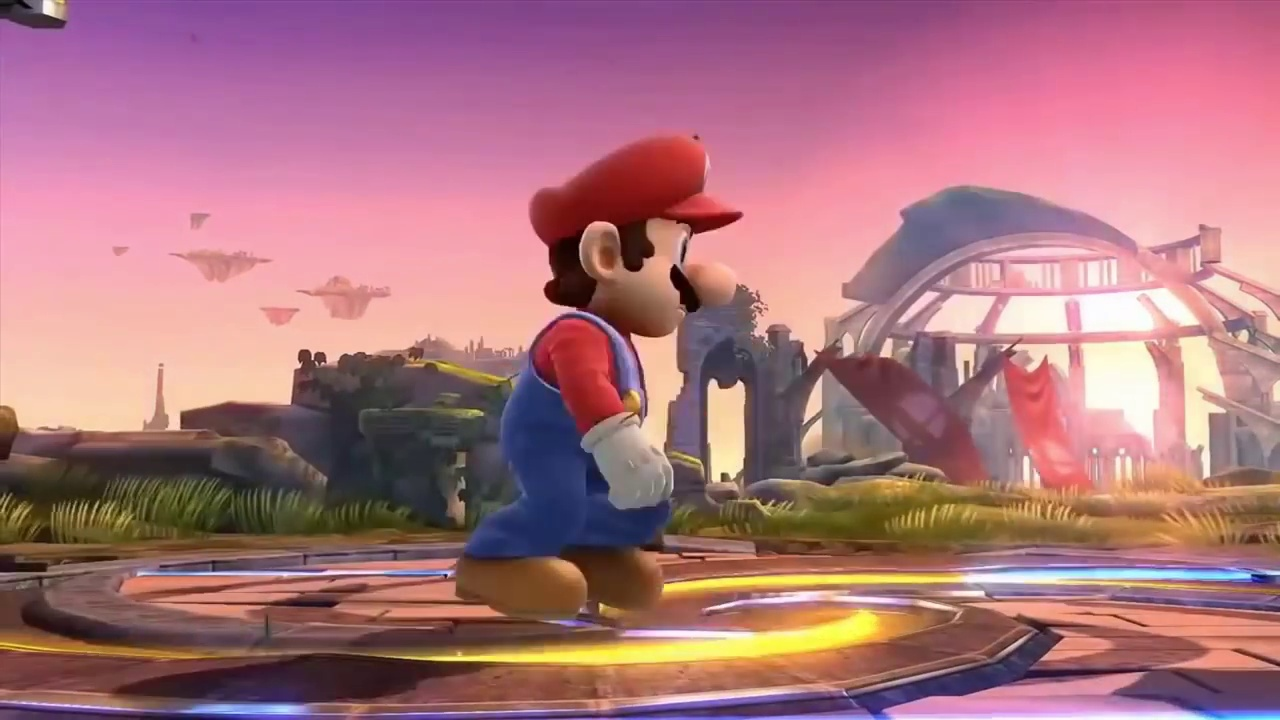Mario: (454, 131, 743, 615)
